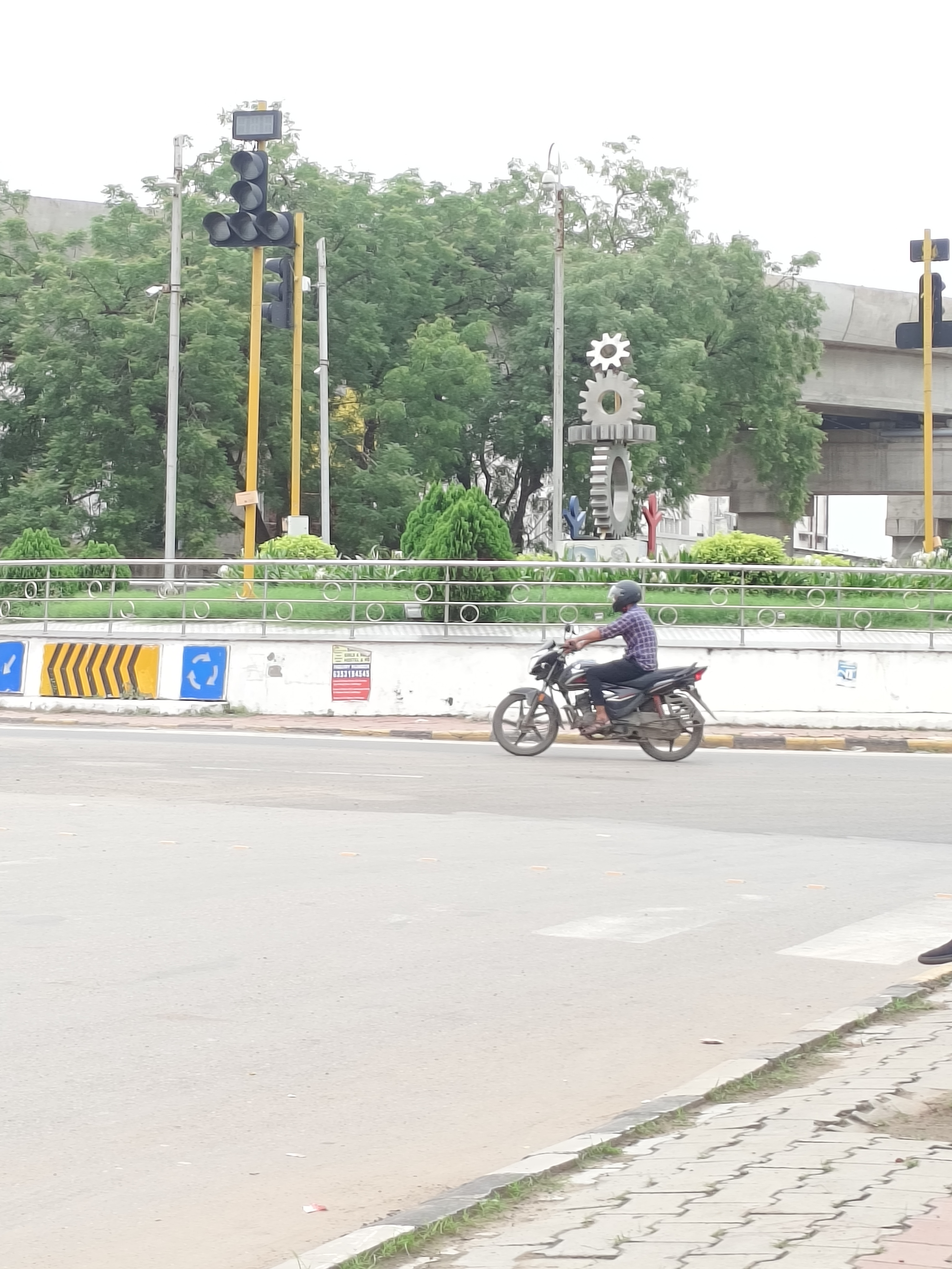BikeWithRider: (458, 551, 758, 768)
Helmet: (599, 570, 648, 619)
